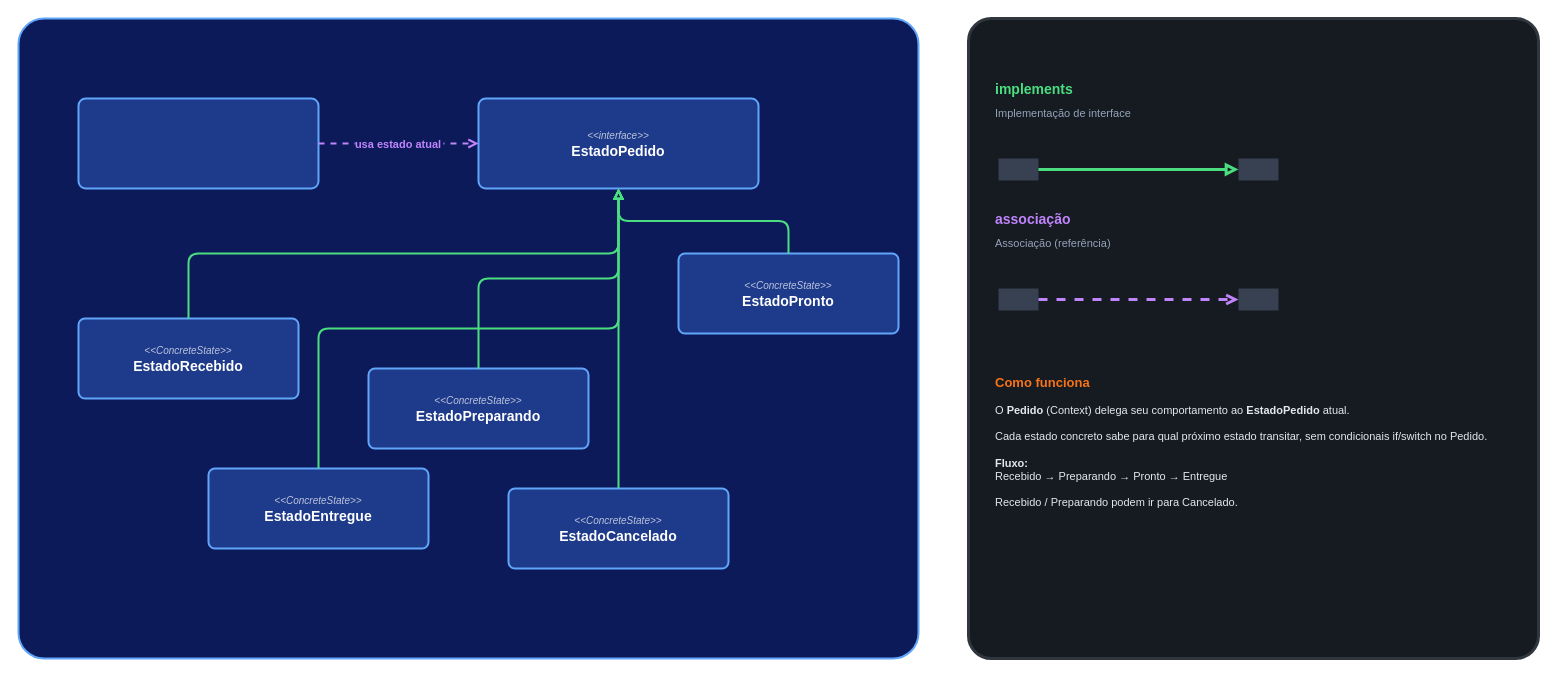
The diagram is 1557 pixels wide and 677 high, and some of its shapes have lost their labels. Each missing label, with the box of its shape:
<<Context>> Pedido: (77, 97, 319, 189)
LEGENDA: (966, 16, 1540, 660)
